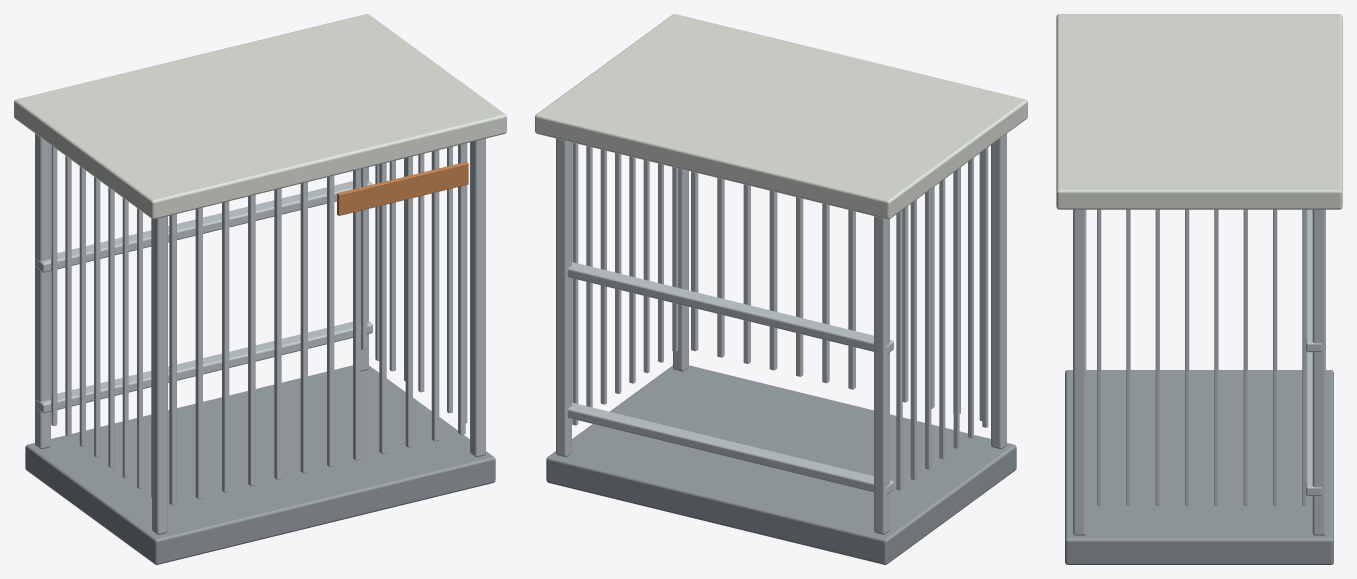
The model's file is abandoned-weather-station-and-storm-shelter-instrument-f12c9947__31005.glb.
3 views of the same model, side by side, from view 1: azimuth 30°, elevation 25°; view 2: azimuth 150°, elevation 25°; view 3: azimuth 270°, elevation 25° (orthographic). The views are drawn at different scales.
Parts seen in each view (by area): view 1: instrument-enclosure; view 2: instrument-enclosure; view 3: instrument-enclosure.
Part boxes in pixels (left/top/right/bottom): instrument-enclosure: left=14, top=14, right=506, bottom=564; instrument-enclosure: left=535, top=14, right=1027, bottom=564; instrument-enclosure: left=1056, top=14, right=1342, bottom=564.
Size of the model in its own units: 1.72 by 1.71 by 1.17.
